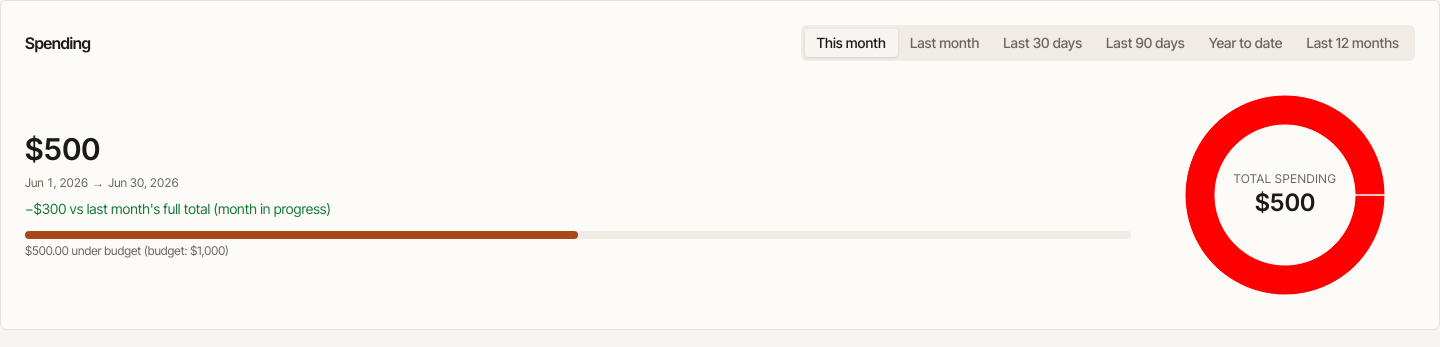
SpendingSummaryHero › this-month range shows the vs-last-month delta and the budget bar; other ranges hide both
Expected: the text "−$300 vs last month's full total (month in progress)" is shown, [25,200,331,217]
Expected: the text "$500.00 under budget (budget: $1,000)" is shown, [25,243,229,258]
Click the tab "Last 90 days" at (1145, 43), box [1094,29,1197,57]
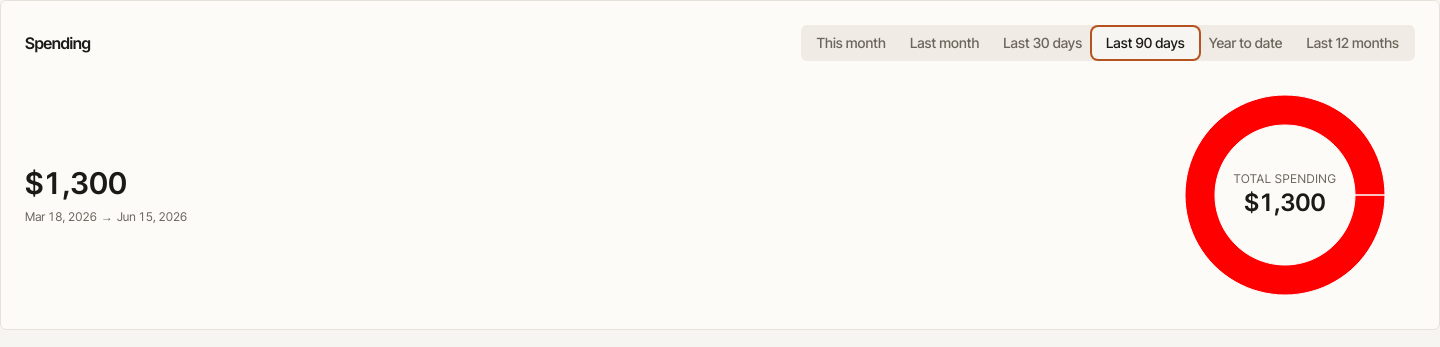
Result: the text "vs last month" is gone
Result: the text "under budget" is gone
